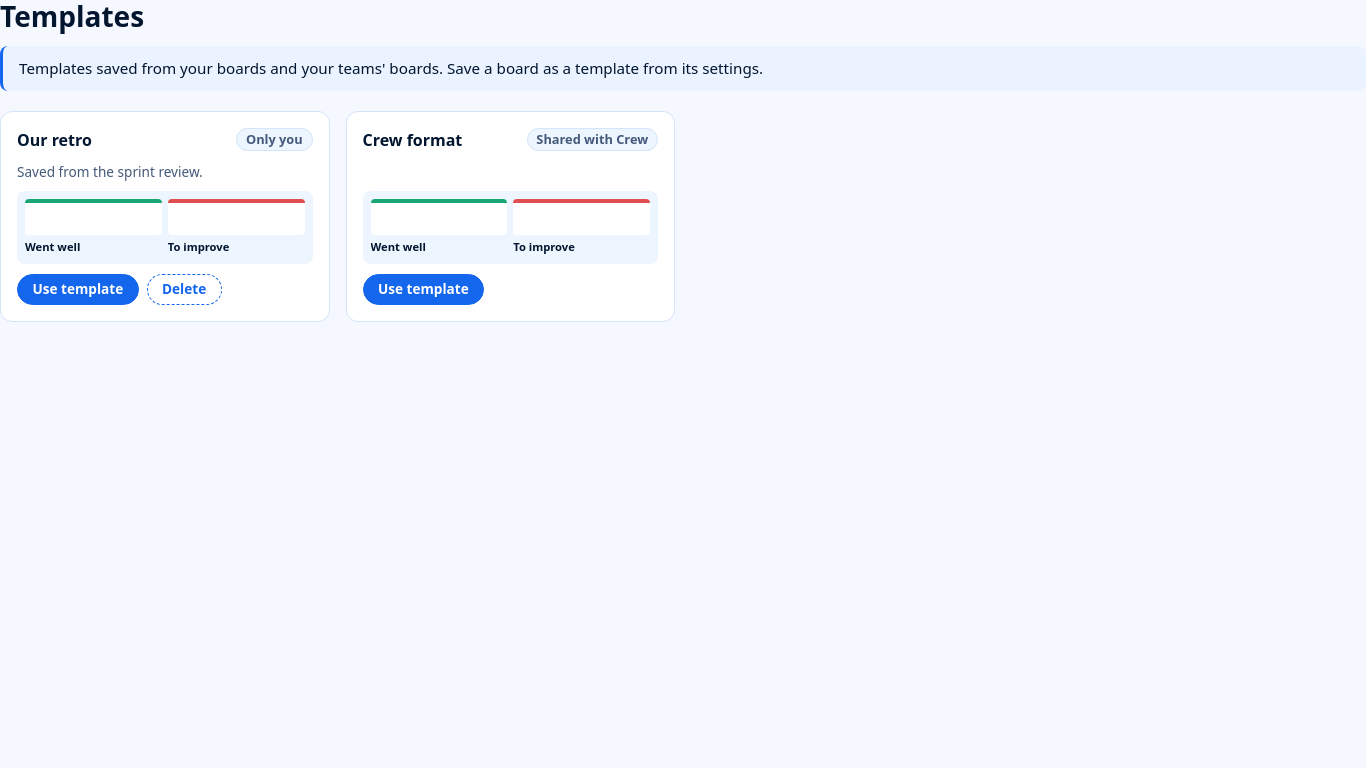
Scenario: SavedTemplatesPage › deletes nothing when the question is cancelled
Click the button "Delete": (184, 289) [147,274,222,305]
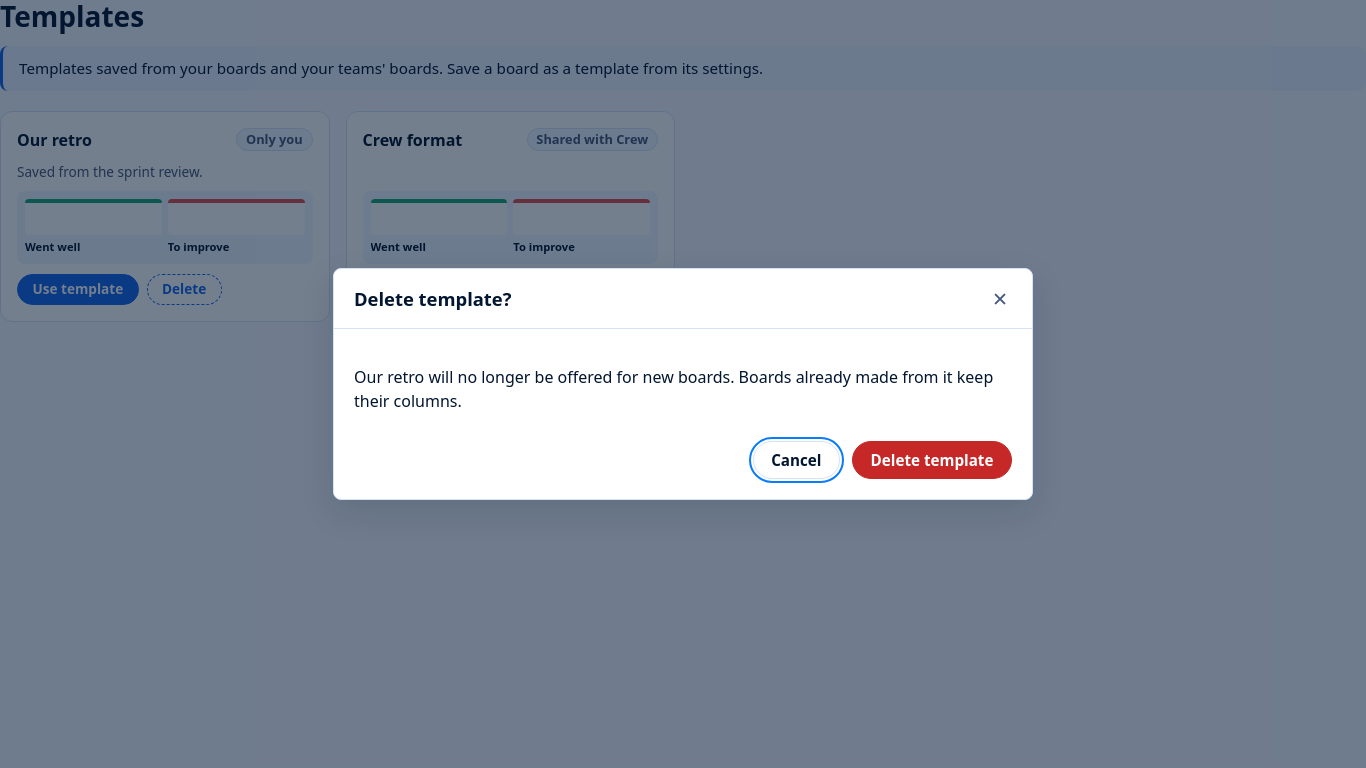
Click the button "Cancel": (796, 460) [753,441,840,479]
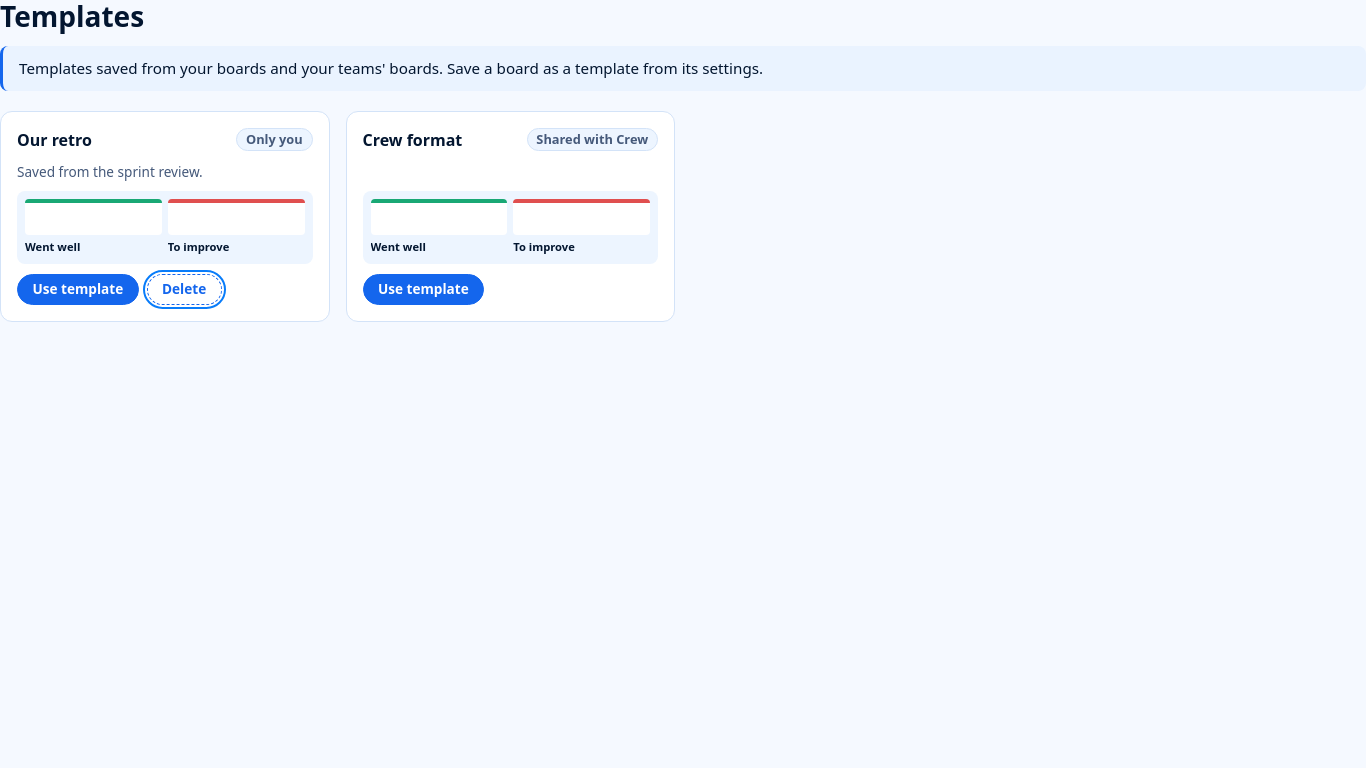
Expected: the dialog is gone
